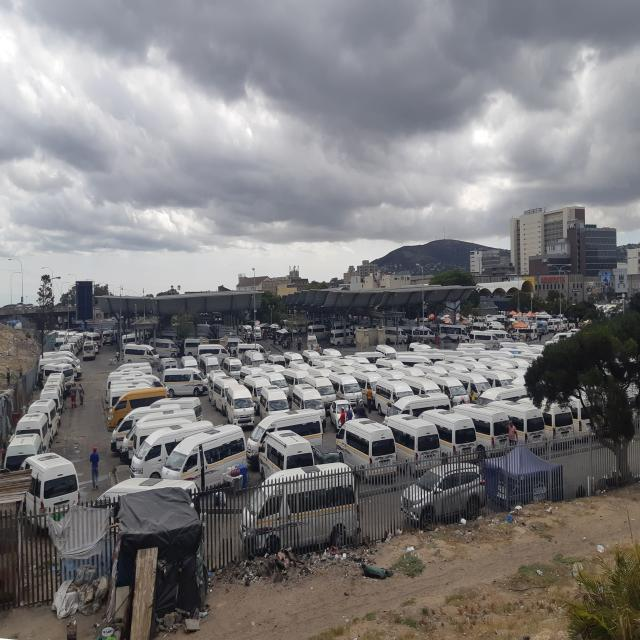MiniBus taxi: (403, 420, 445, 457), (358, 424, 399, 461), (161, 366, 210, 396), (450, 419, 480, 457), (225, 391, 257, 425), (122, 342, 160, 362), (80, 342, 97, 362)
